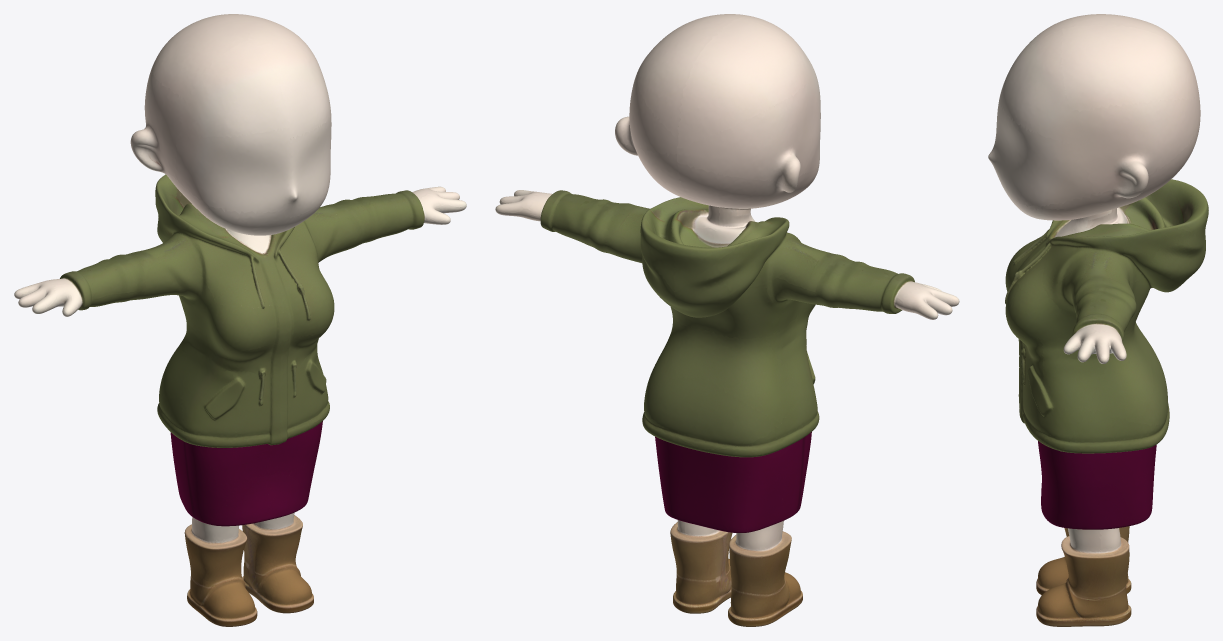
Rendered from baked_outfit_parka.glb.
3 renders of one model, left to right at view 1: azimuth 30°, elevation 25°; view 2: azimuth 150°, elevation 25°; view 3: azimuth 270°, elevation 25°, orthographic. The views are drawn at different scales.
Bounding box in the file's own units: 1.54 × 1.9 × 0.657.
1 material, 1 textured.
